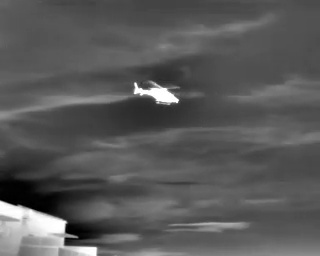HELICOPTER: (130, 73, 185, 113)
